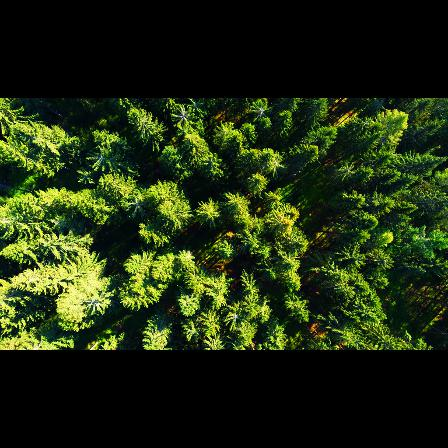Sick: (223, 303, 247, 331), (125, 190, 148, 218), (265, 150, 288, 175), (335, 158, 357, 182), (248, 102, 273, 120), (172, 107, 193, 125), (367, 98, 388, 113)
